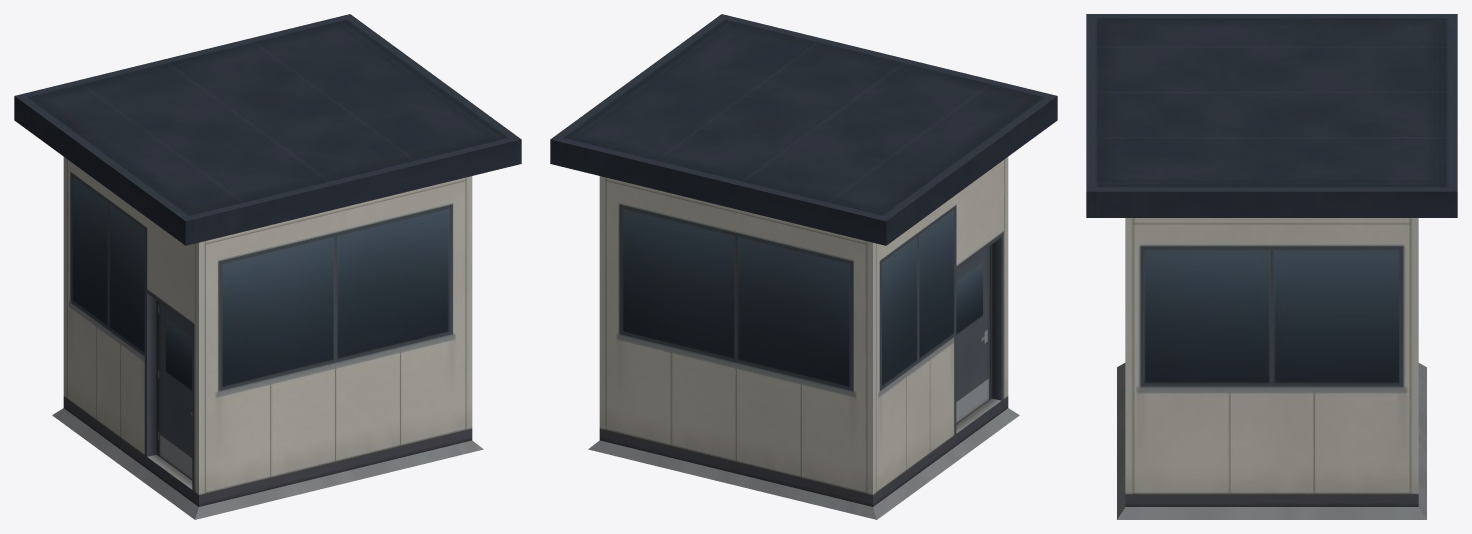
Rendered from checkpoint-booth-authored-v2.glb.
3 renders of one model, left to right at view 1: azimuth 30°, elevation 25°; view 2: azimuth 150°, elevation 25°; view 3: azimuth 270°, elevation 25°, orthographic. The views are drawn at different scales.
Parts seen in each view (by area): view 1: Checkpoint-boothBody; view 2: Checkpoint-boothBody; view 3: Checkpoint-boothBody.
Part boxes in pixels (x1,y1,x2,y2): Checkpoint-boothBody: [14, 14, 521, 519]; Checkpoint-boothBody: [550, 14, 1057, 519]; Checkpoint-boothBody: [1086, 14, 1457, 519].
Size of the model in its own units: 4.3 by 3.85 by 3.8.
Materials: 1 (1 with a texture image).
